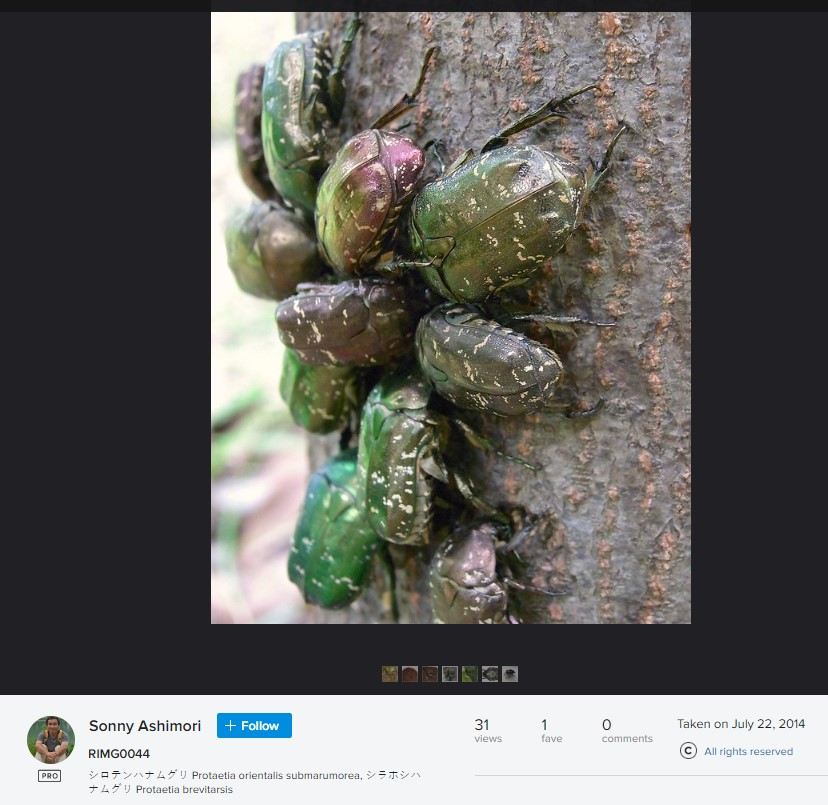Protaetia _orientalis: (405, 76, 631, 295), (304, 55, 461, 283), (386, 295, 609, 439), (253, 19, 413, 214), (340, 379, 467, 557), (266, 458, 409, 599)
